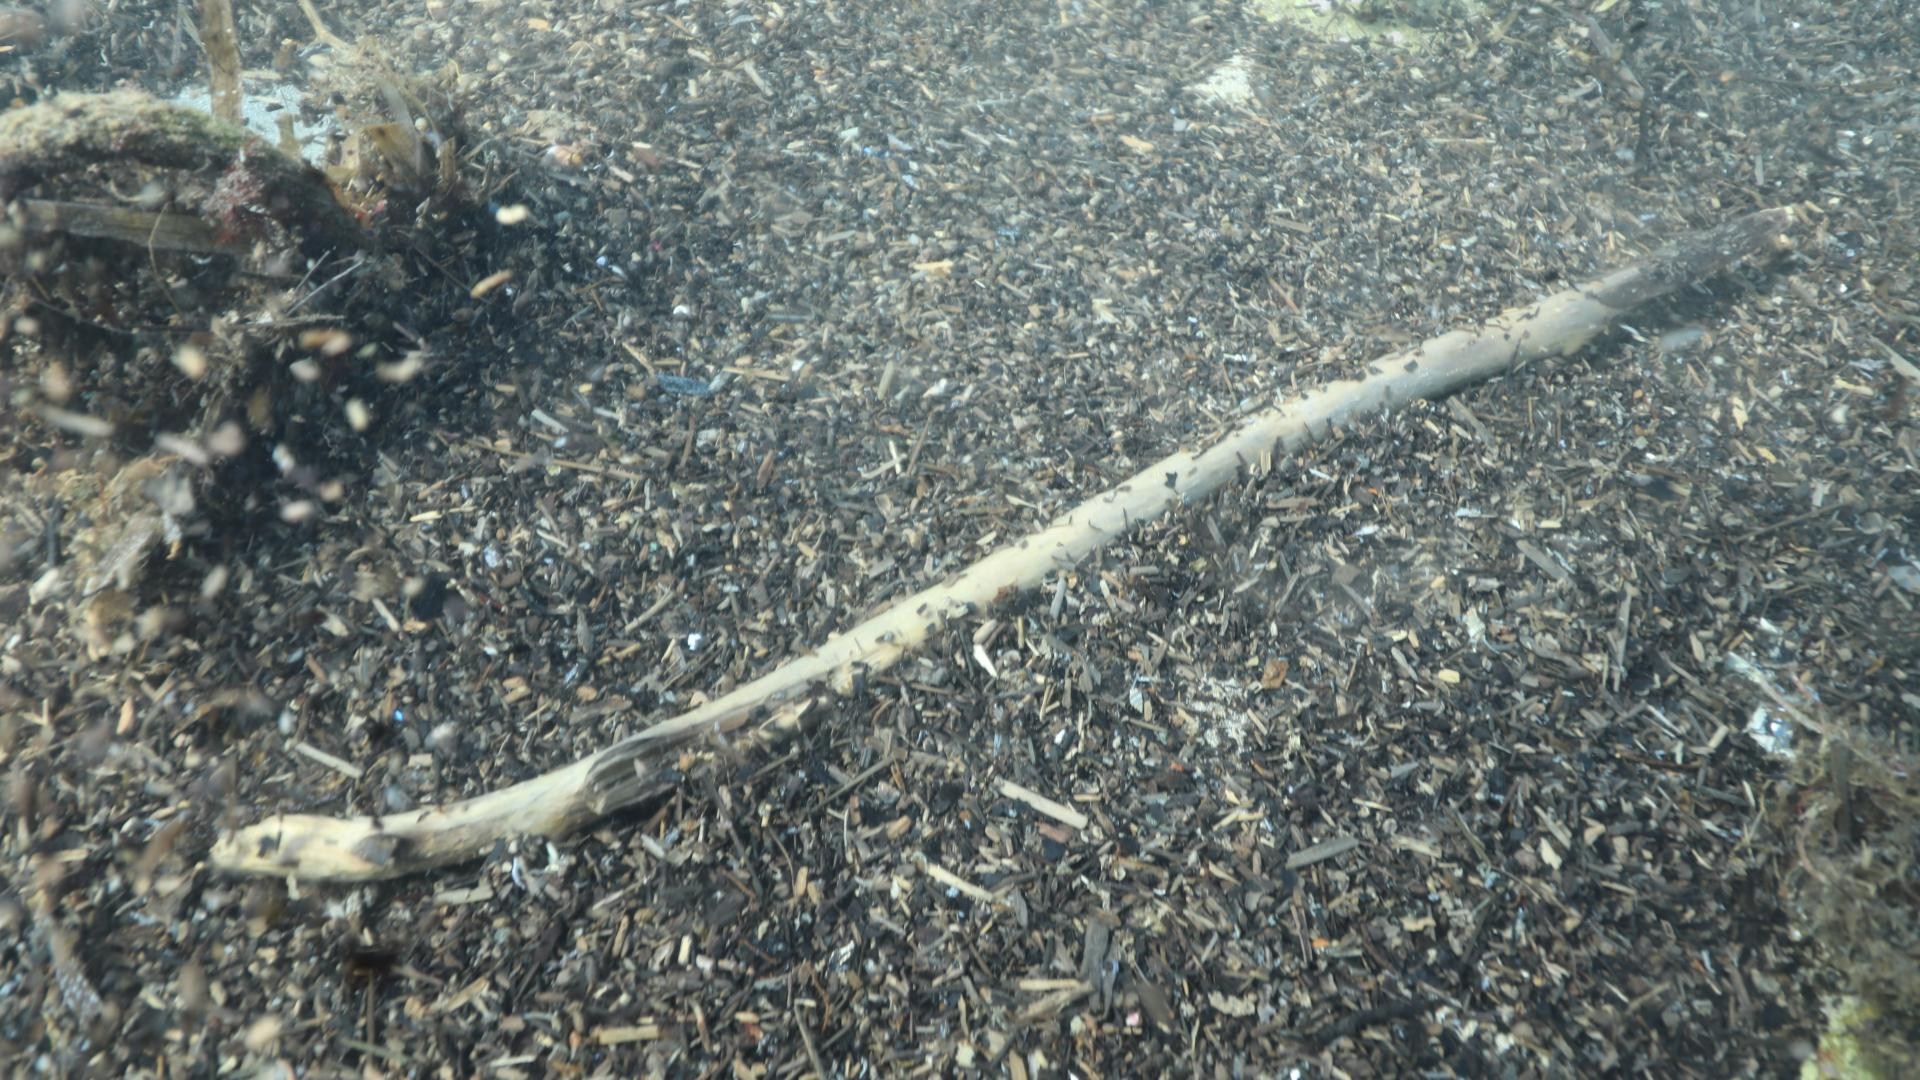wood: (208, 204, 1789, 880)
